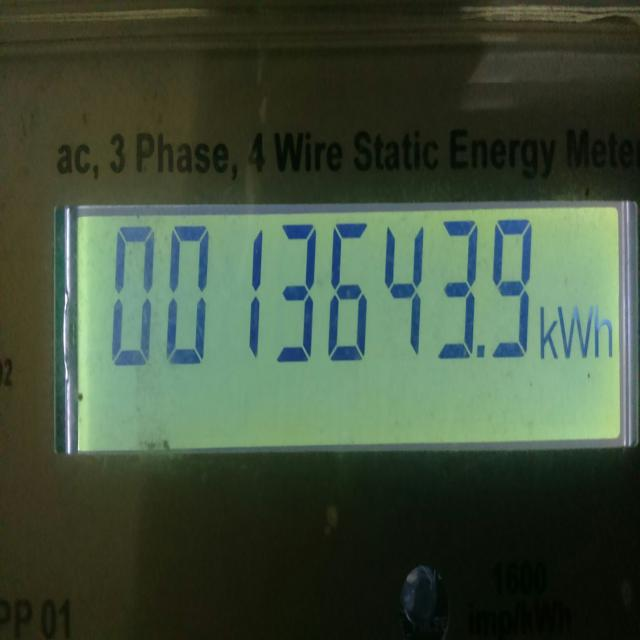.: (478, 342, 485, 360)
0: (167, 225, 209, 365), (112, 227, 150, 366)
1: (250, 229, 262, 360)
3: (277, 224, 316, 363), (442, 222, 476, 354)
4: (385, 225, 423, 358)
6: (331, 223, 367, 359)
9: (494, 223, 529, 361)
